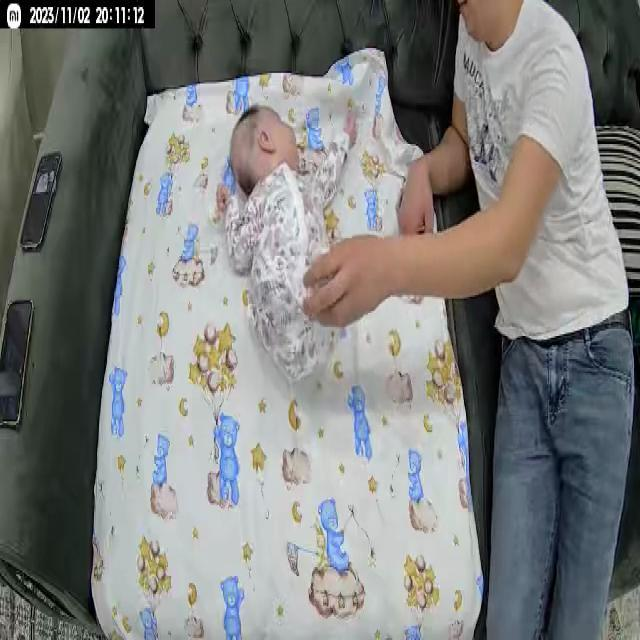baby: (212, 104, 360, 390)
